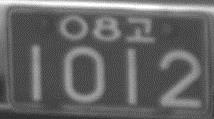0: (63, 45, 106, 104), (59, 14, 88, 41)
1: (21, 43, 54, 101), (117, 47, 149, 106)
2: (158, 47, 203, 108)
8: (94, 15, 121, 42)
고: (125, 16, 155, 42)
